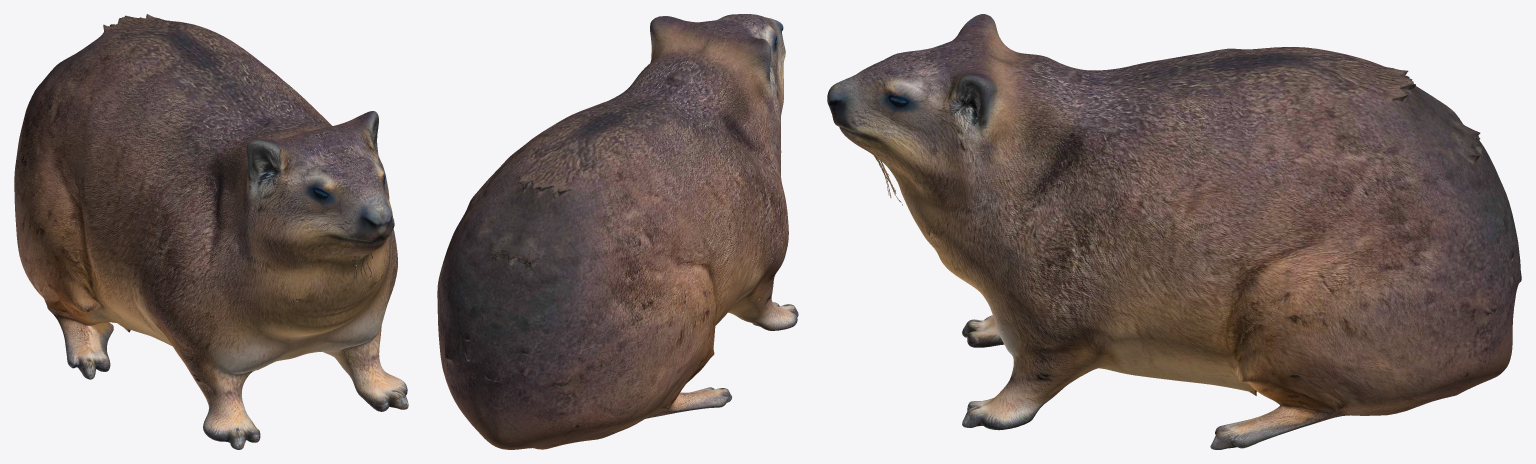
Rendered from Hyrax_red.glb.
3 renders of one model, left to right at view 1: azimuth 30°, elevation 25°; view 2: azimuth 150°, elevation 25°; view 3: azimuth 270°, elevation 25°, orthographic. The views are drawn at different scales.
Visible parts, largest first — view 1: mesh_0; view 2: mesh_0; view 3: mesh_0.
Part boxes in pixels (<box>): mesh_0: <box>14,14,408,449</box>; mesh_0: <box>437,14,798,449</box>; mesh_0: <box>827,14,1521,449</box>.
Size of the model in its own units: 0.9531 by 1.02 by 1.9.
1 material, 1 textured.
